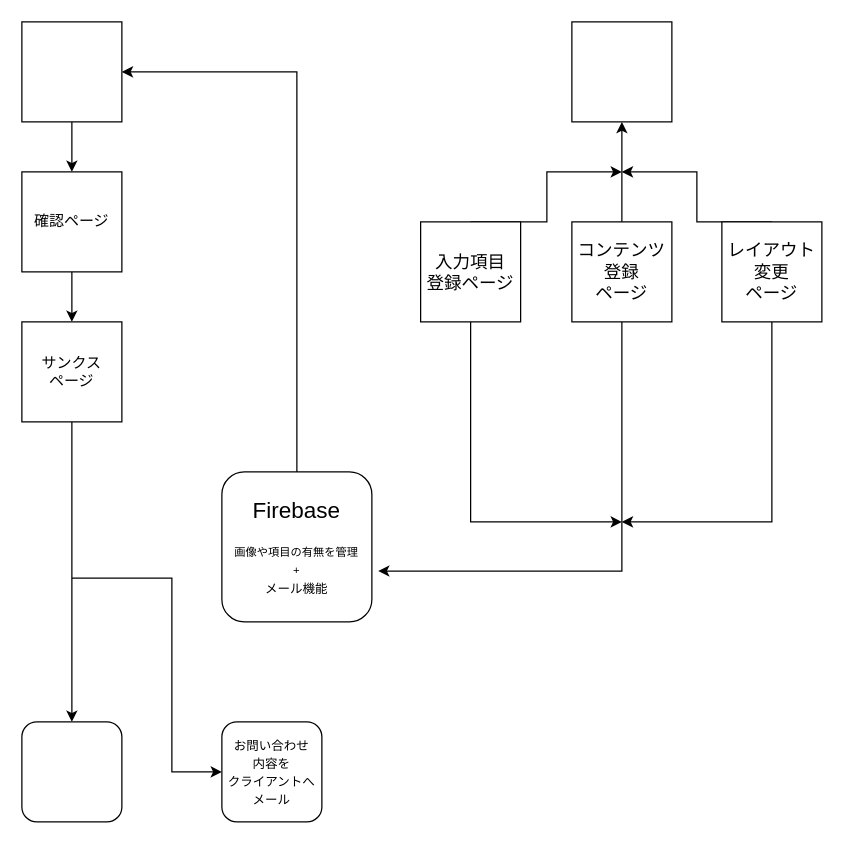
Image size: 844x844. Some labels were removed from this diagram. The centre of each missing label's shape, as x and y in pixels:
"ユーザーへ サンクス メール" goes at pixel 71 771.
"入力ページ" goes at pixel 71 71.
"管理者 ログイン ページ" goes at pixel 621 71.
